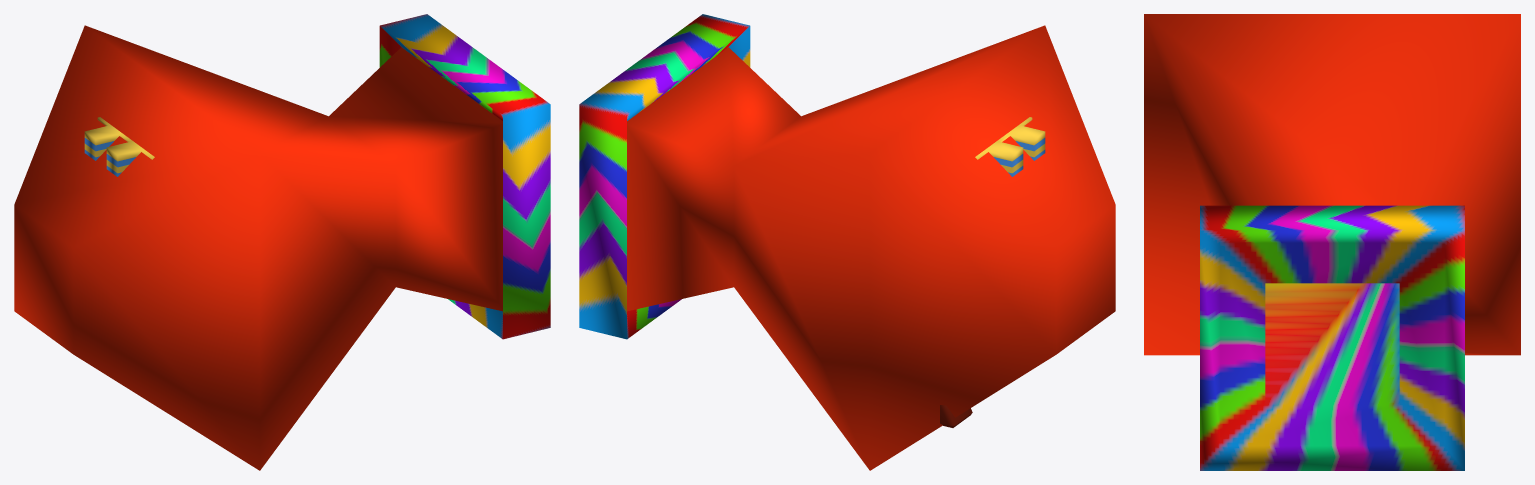
File: egg_cannon.glb
3 renders of one model, left to right at view 1: azimuth 30°, elevation 25°; view 2: azimuth 150°, elevation 25°; view 3: azimuth 270°, elevation 25°, orthographic. The views are drawn at different scales.
Visible parts, largest first — view 1: Cube, Cube.002; view 2: Cube, Cube.002; view 3: Cube.
Part boxes in pixels (left/top/right/bottom): Cube: left=14, top=14, right=550, bottom=470; Cube.002: left=84, top=117, right=154, bottom=176; Cube: left=579, top=14, right=1115, bottom=470; Cube.002: left=975, top=117, right=1045, bottom=176; Cube: left=1144, top=14, right=1520, bottom=470.
Size of the model in its own units: 4.68 by 3.19 by 3.19.
Materials: 1 (1 with a texture image).
